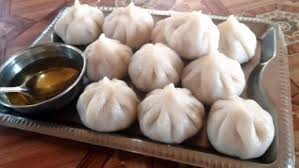modak: (207, 93, 286, 160), (134, 82, 213, 142), (178, 50, 253, 106), (76, 80, 145, 134), (158, 7, 224, 57), (51, 3, 117, 50), (127, 39, 189, 89), (98, 3, 157, 50), (215, 11, 267, 62), (81, 33, 135, 81)
